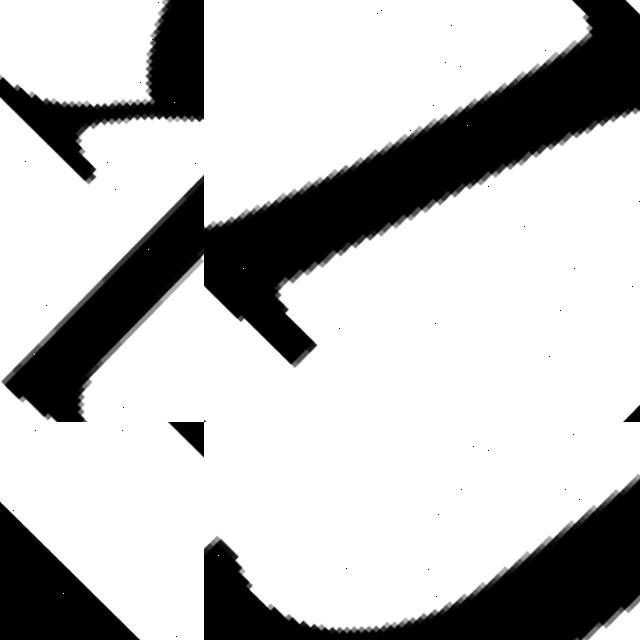1: (204, 0, 640, 422)
K: (0, 0, 204, 422)
R: (204, 422, 640, 640)
W: (0, 422, 204, 640)
